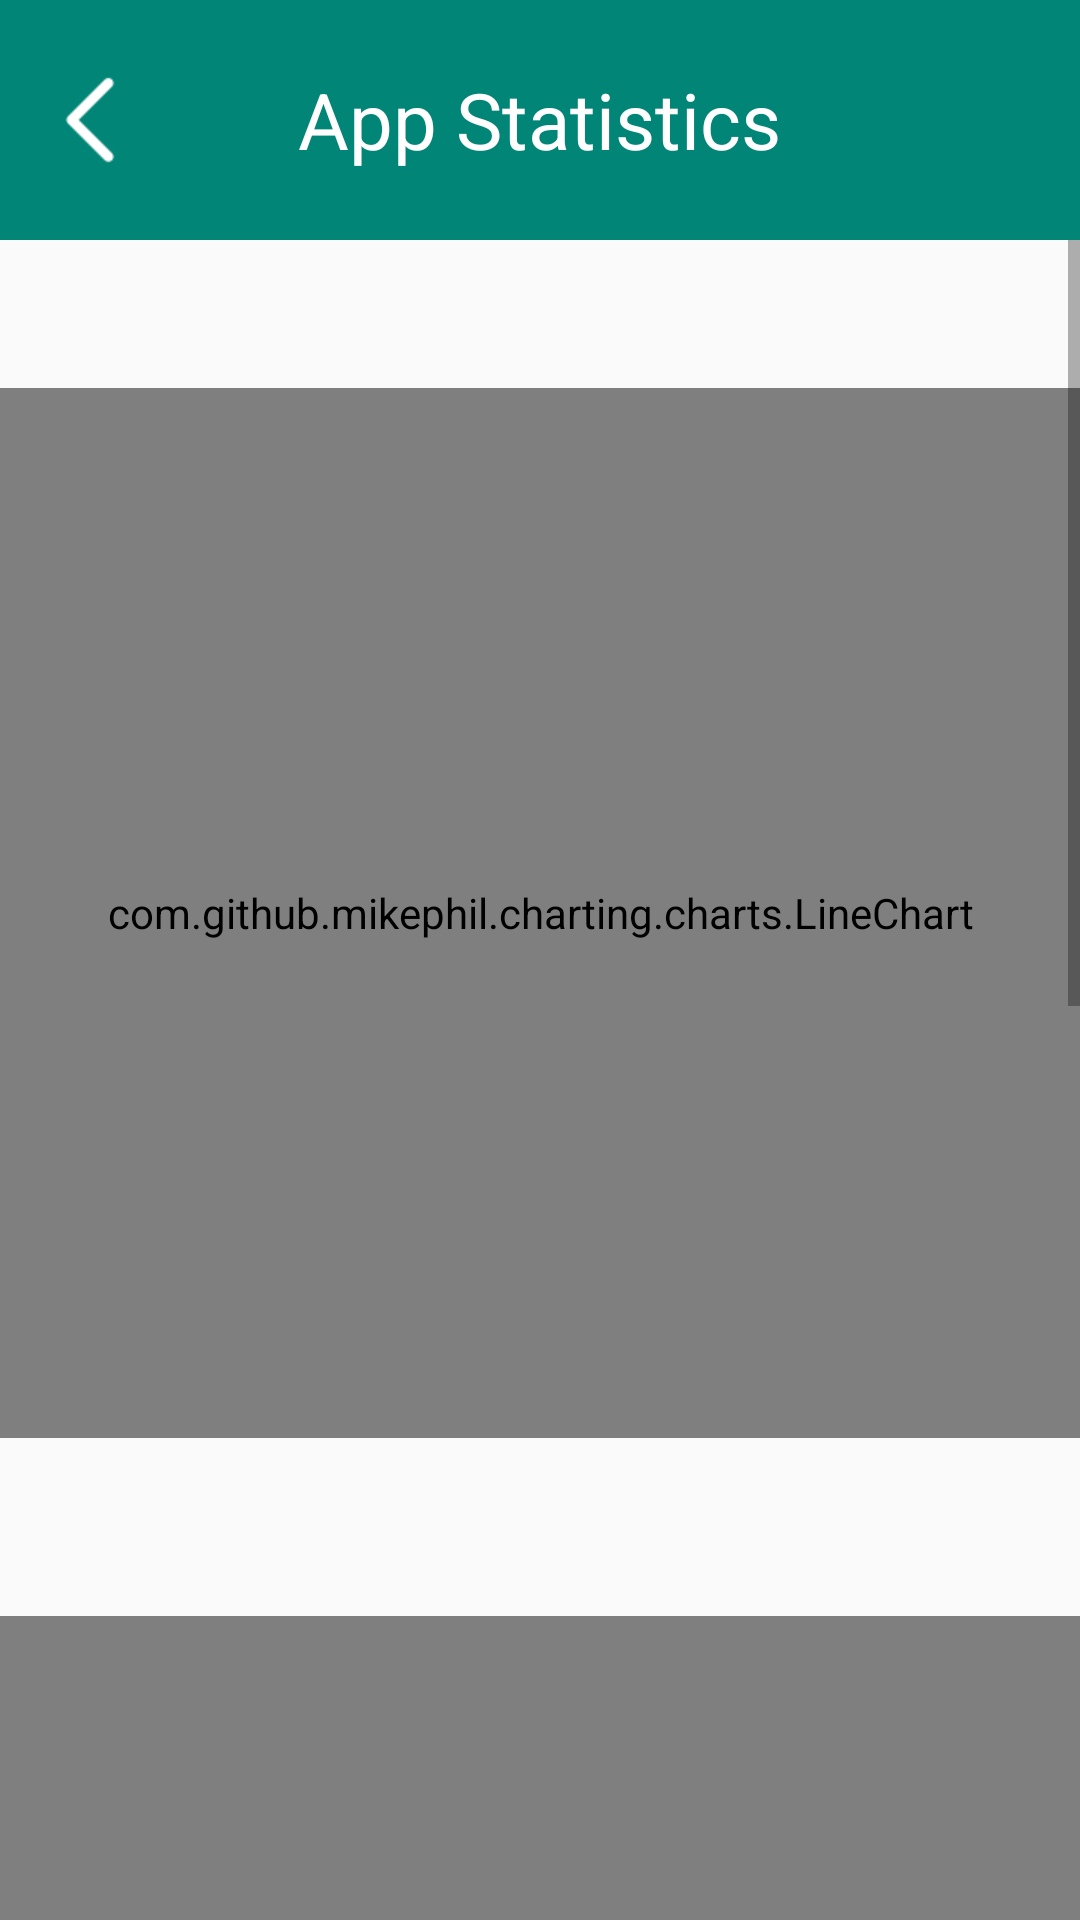

Icons on this 1080*1920 Android screen, each with the point to tap as (x=x, y=y):
fanhui: (x=90, y=120)
